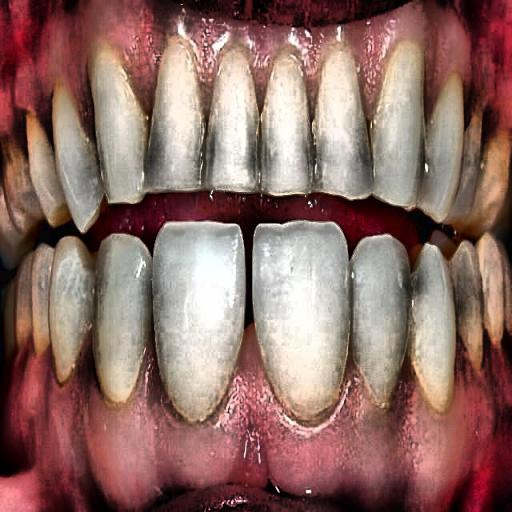Healthy: (5, 28, 512, 397)
